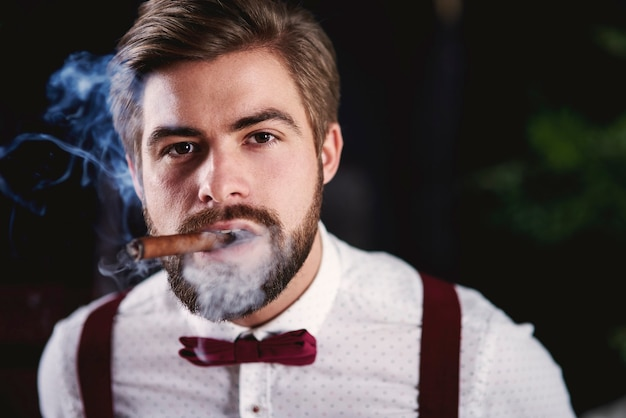cigarette: (124, 230, 241, 260)
